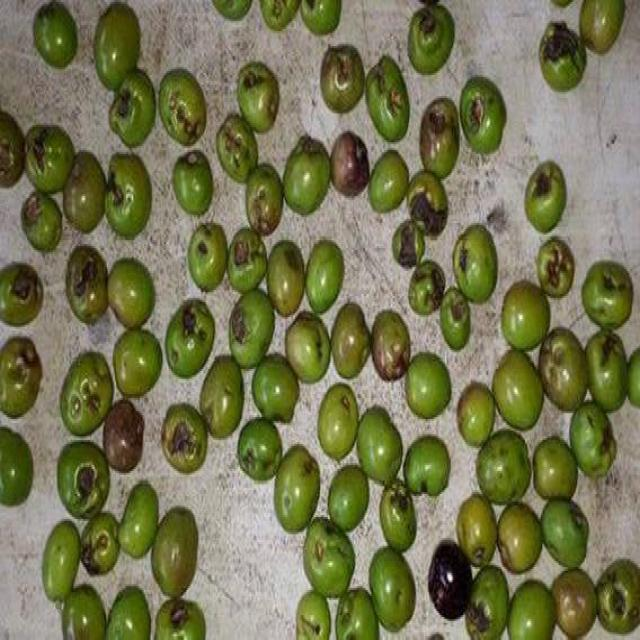Olive Fruit Fly: (61, 352, 113, 434), (57, 442, 109, 521), (304, 517, 354, 596), (275, 444, 319, 532), (105, 154, 151, 236), (166, 300, 214, 377), (540, 329, 586, 409), (477, 431, 528, 502), (199, 354, 243, 436), (284, 135, 330, 213), (366, 56, 408, 140), (158, 69, 205, 144), (581, 261, 632, 329), (110, 69, 155, 146), (230, 290, 274, 367), (461, 77, 506, 152), (0, 338, 42, 417), (26, 125, 74, 194), (453, 225, 496, 302), (541, 498, 588, 567), (465, 565, 509, 638), (586, 331, 626, 411), (409, 2, 454, 73), (570, 402, 615, 473), (66, 246, 107, 323), (428, 542, 470, 617), (596, 559, 639, 632), (161, 404, 206, 473), (541, 21, 586, 90), (318, 382, 358, 459), (285, 311, 329, 381), (419, 100, 459, 177), (525, 161, 566, 231), (321, 46, 363, 114), (216, 113, 257, 181), (267, 240, 304, 315), (456, 494, 495, 565), (238, 62, 278, 131), (34, 0, 75, 65), (238, 419, 282, 479), (405, 436, 450, 494), (0, 263, 42, 325), (372, 309, 409, 379), (246, 163, 282, 234), (379, 480, 415, 550), (171, 152, 211, 215), (81, 511, 118, 579), (536, 236, 575, 300), (188, 223, 226, 288), (408, 171, 446, 236), (331, 131, 368, 196), (21, 190, 61, 250), (228, 227, 266, 290), (336, 588, 379, 638), (439, 286, 469, 350), (155, 600, 205, 638), (409, 259, 444, 313), (296, 590, 330, 638), (392, 221, 424, 265)
